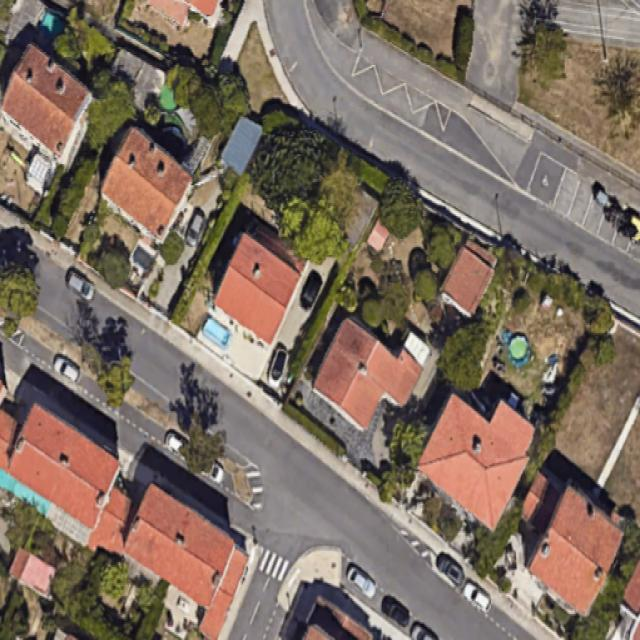maison: (407, 379, 548, 529), (516, 483, 638, 616), (305, 320, 426, 440), (89, 127, 207, 245), (0, 44, 109, 166), (207, 233, 306, 343)
